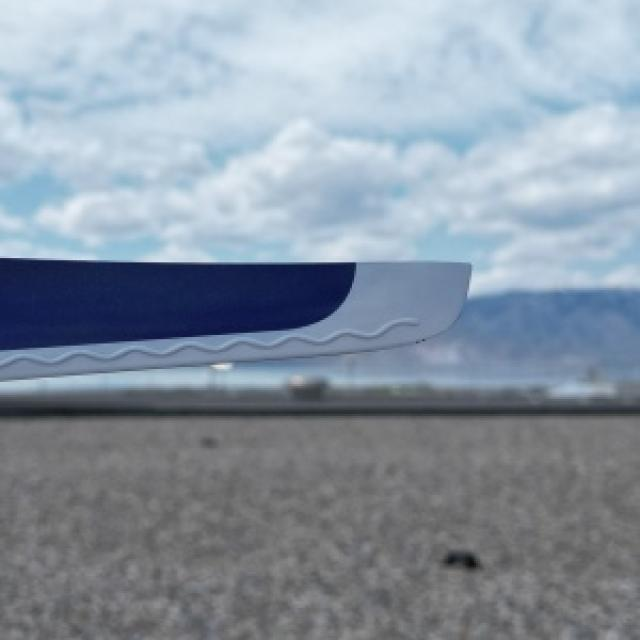healthy: (0, 256, 467, 375)
